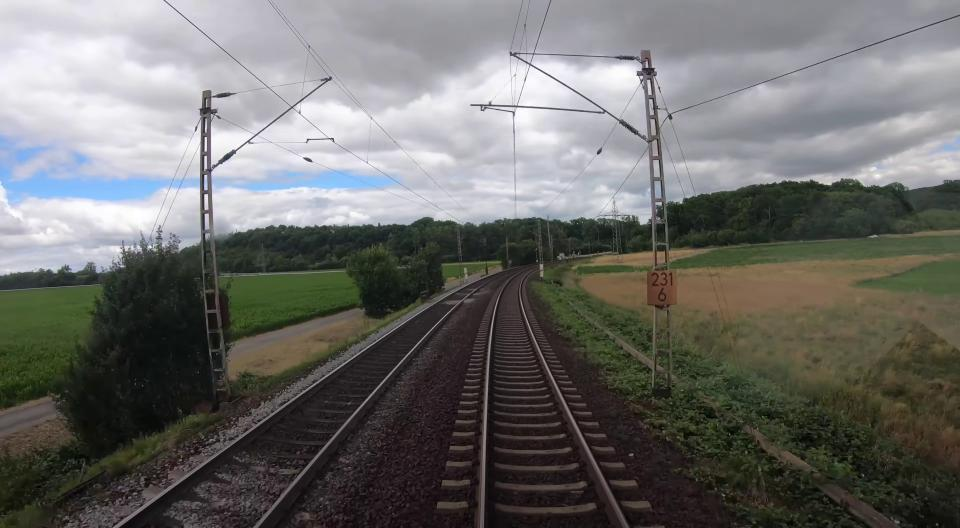Plant: (530, 281, 866, 528)
